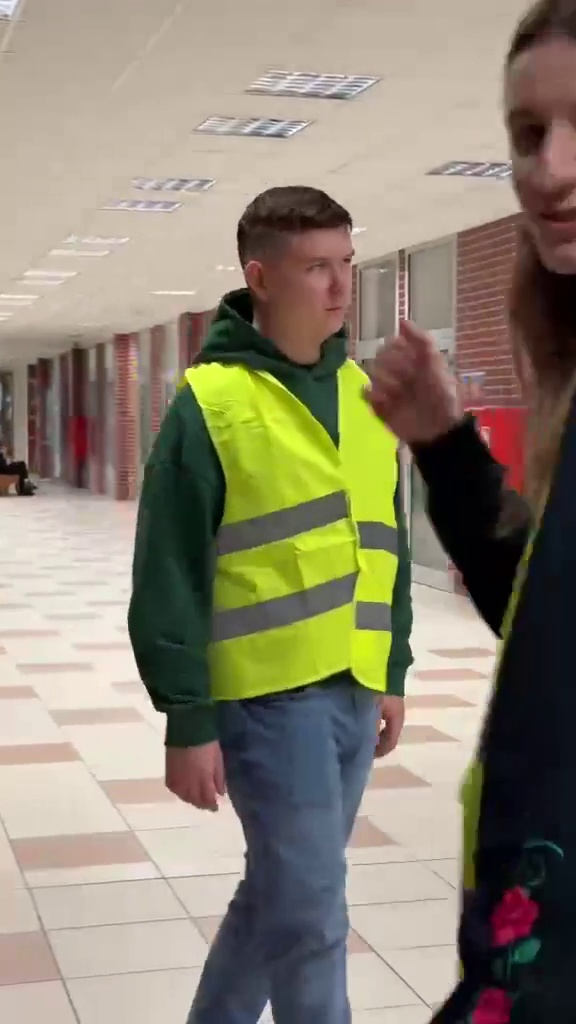vest: (110, 166, 421, 1003)
